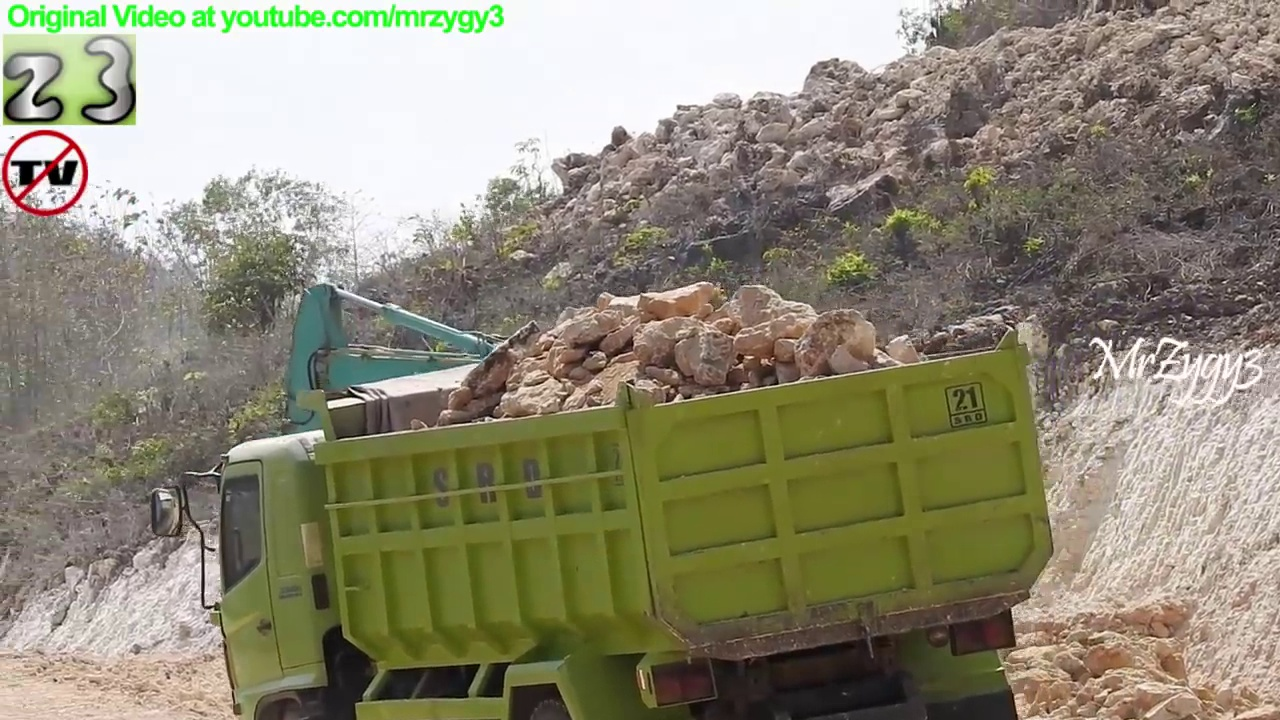excavator: (248, 271, 924, 705)
truck: (143, 313, 1065, 720)
